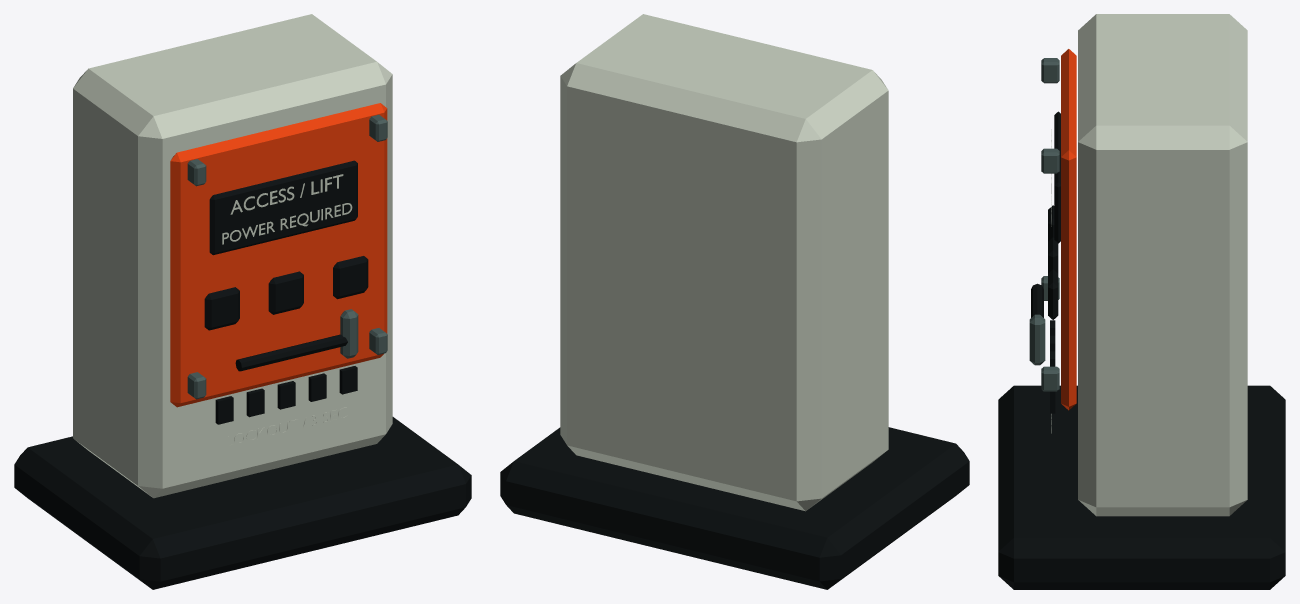
Rendered from SM_MP_Lift_Console.fbx.
3 renders of one model, left to right at view 1: azimuth 30°, elevation 25°; view 2: azimuth 150°, elevation 25°; view 3: azimuth 270°, elevation 25°, orthographic. The views are drawn at different scales.
Visible parts, largest first — view 1: SM_MP_Lift_Console; view 2: SM_MP_Lift_Console; view 3: SM_MP_Lift_Console.
Boxes of the visible parts, x1=… form: SM_MP_Lift_Console: x1=14, y1=14, x2=471, y2=589; SM_MP_Lift_Console: x1=500, y1=14, x2=969, y2=589; SM_MP_Lift_Console: x1=998, y1=14, x2=1285, y2=589.
Size of the model in its own units: 150 by 110 by 187.
1 material, 1 textured.
